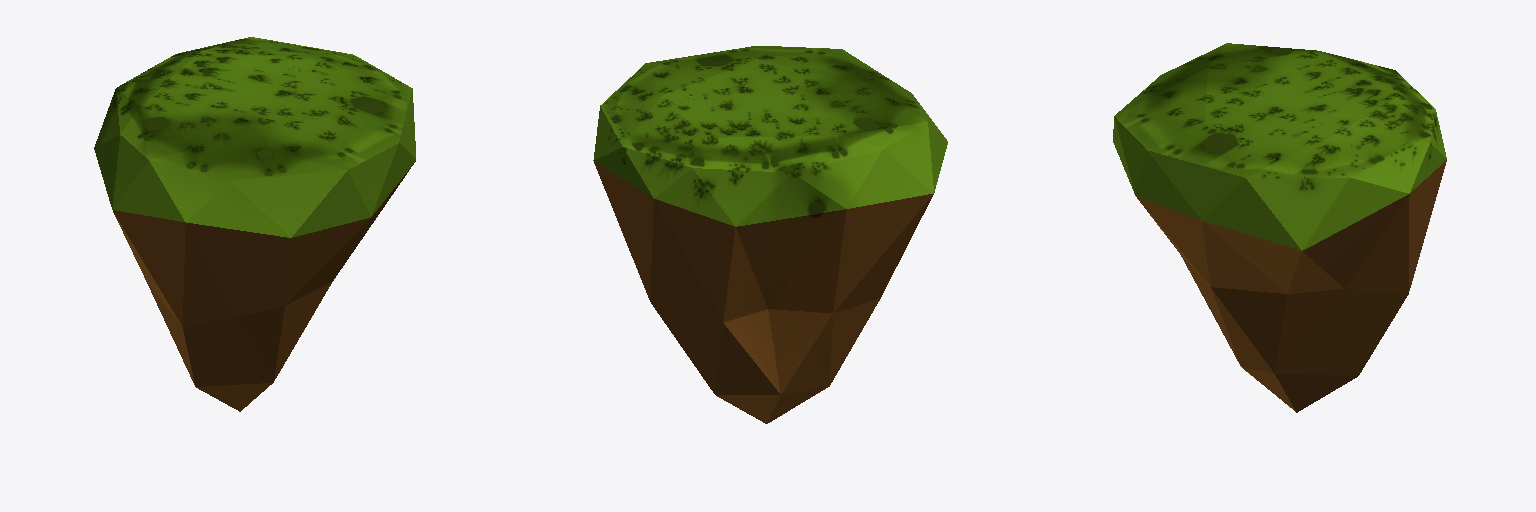
The picture shows the model from 3 angles: view 1: azimuth 30°, elevation 25°; view 2: azimuth 150°, elevation 25°; view 3: azimuth 270°, elevation 25°; orthographic projection.
Visible parts, largest first — view 1: island.001_Icosphere.005; view 2: island.001_Icosphere.005; view 3: island.001_Icosphere.005.
Boxes of the visible parts, box(x1,y1,x2,y2) form: island.001_Icosphere.005: box(94, 37, 415, 411); island.001_Icosphere.005: box(593, 46, 947, 423); island.001_Icosphere.005: box(1113, 43, 1446, 412).
Bounding box in the file's own units: 7.03 × 6.96 × 6.57.
Materials: 1 (1 with a texture image).